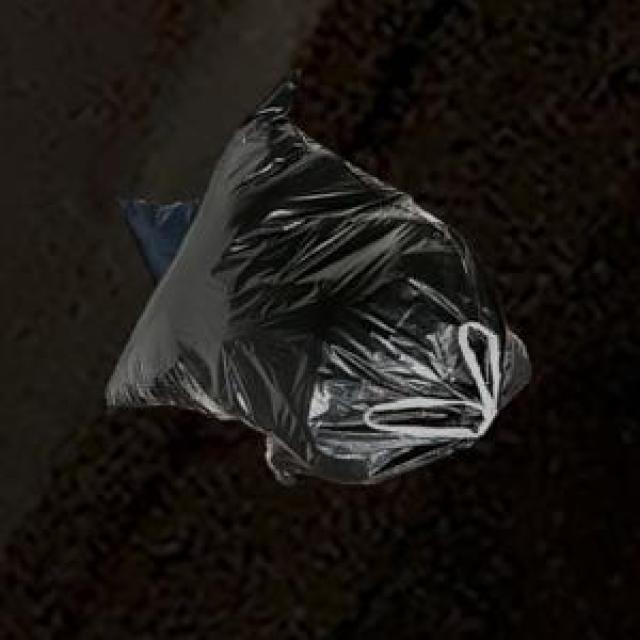Vinyl: (106, 92, 530, 483)
